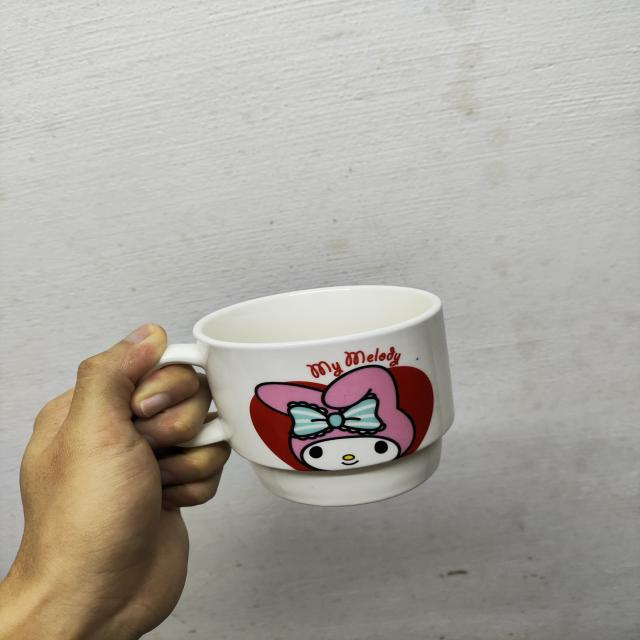cup: (114, 267, 481, 526)
